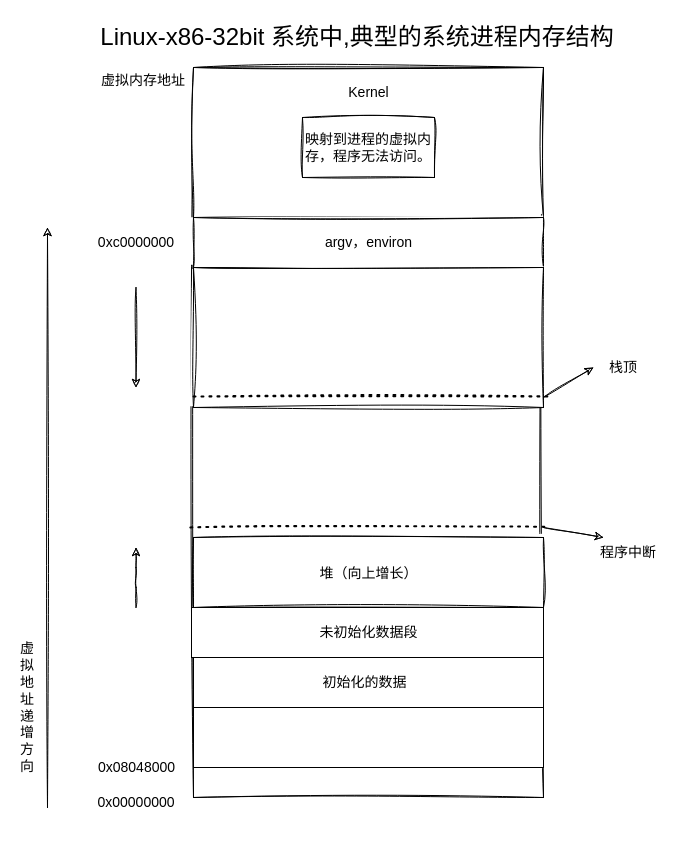
The diagram is 680 pixels wide and 844 high, and some of its shapes have lost their labels. Each missing label, with the centre of its shape:
文本（程序代码段）: point 368,737
栈（向下增长）: point 368,337
